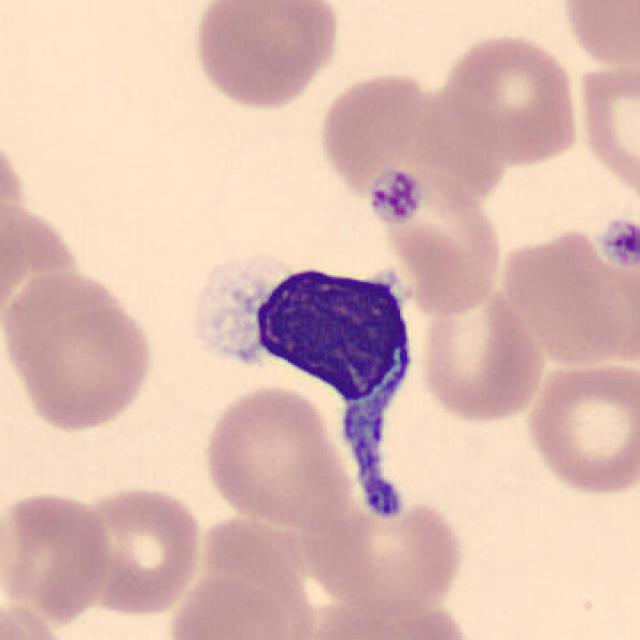Lymphocyte: (190, 244, 442, 530)
Platelets: (366, 166, 425, 227), (595, 215, 640, 271)
RBC: (0, 264, 158, 436), (300, 487, 470, 615), (199, 383, 350, 527), (496, 222, 638, 370), (436, 30, 583, 167), (416, 278, 548, 426), (70, 481, 206, 619), (188, 0, 345, 113), (523, 354, 638, 499), (314, 67, 436, 201), (0, 487, 114, 624), (0, 196, 86, 334), (574, 55, 640, 206), (164, 571, 300, 640), (291, 594, 473, 640), (555, 0, 638, 71), (0, 596, 73, 640)
